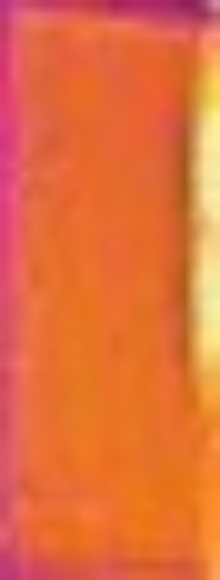Diode: (175, 27, 220, 424)
